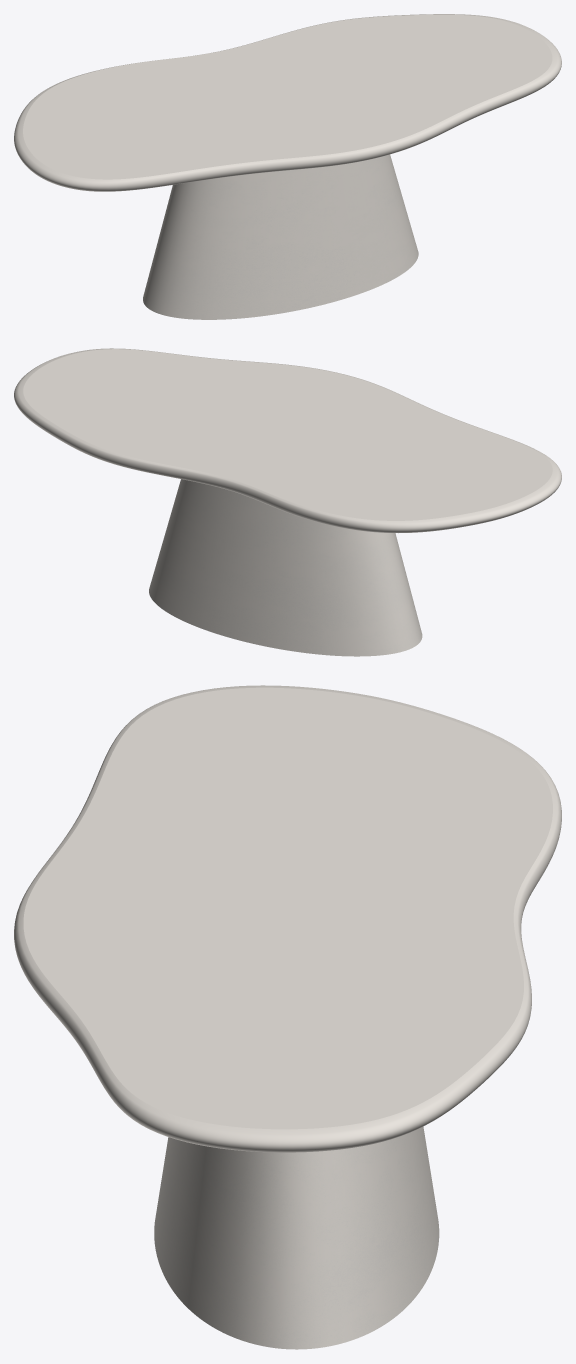
File: pearlwhite_toplast_round_eqone.glb
3 views of the same model, one above another, from view 1: azimuth 30°, elevation 25°; view 2: azimuth 150°, elevation 25°; view 3: azimuth 270°, elevation 25° (orthographic). The views are drawn at different scales.
Parts seen in each view (by area): view 1: round_toplast, eqone; view 2: round_toplast, eqone; view 3: round_toplast, eqone.
Boxes of the visible parts, box(x1,y1,x2,y2) form: round_toplast: box(14, 14, 561, 191); eqone: box(143, 154, 418, 319); round_toplast: box(14, 348, 561, 533); eqone: box(149, 479, 422, 656); round_toplast: box(14, 685, 561, 1152); eqone: box(154, 1126, 439, 1349).
Bounding box in the file's own units: 7.5 × 2.5 × 3.8.
1 material, 1 textured.
